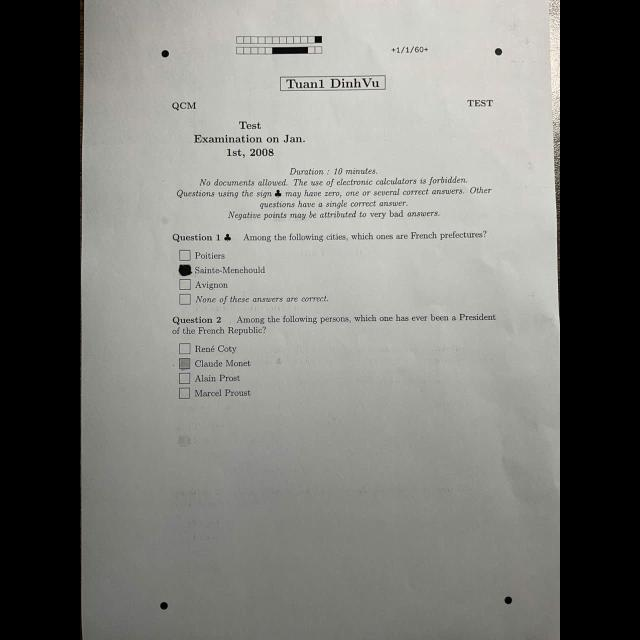Markers: (503, 596, 512, 604), (161, 50, 169, 58), (495, 48, 503, 56), (160, 602, 168, 610)
